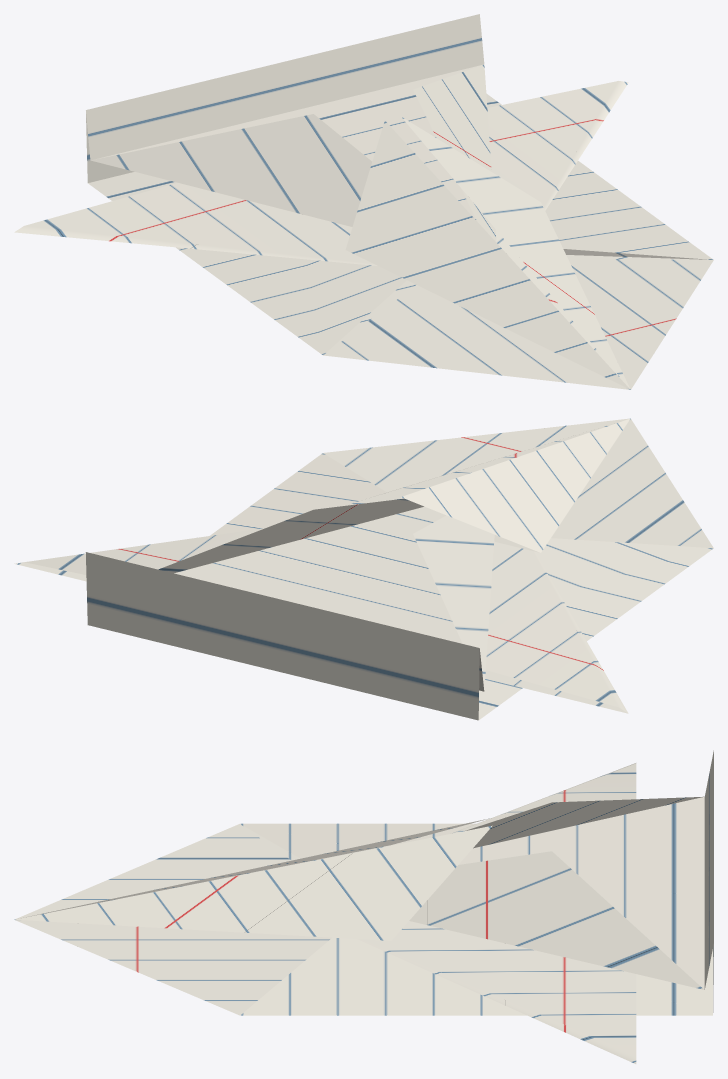
Rendered from PaperCar.fbx.
3 renders of one model, top to bottom at view 1: azimuth 30°, elevation 25°; view 2: azimuth 150°, elevation 25°; view 3: azimuth 270°, elevation 25°, orthographic.
Visible parts, largest first — view 1: PaperCar; view 2: PaperCar; view 3: PaperCar.
Part boxes in pixels (x1,y1,x2,y2): PaperCar: (14,14,713,389); PaperCar: (14,418,713,720); PaperCar: (14,750,713,1063).
Bounding box in the file's own units: 157 × 23.82 × 154.
